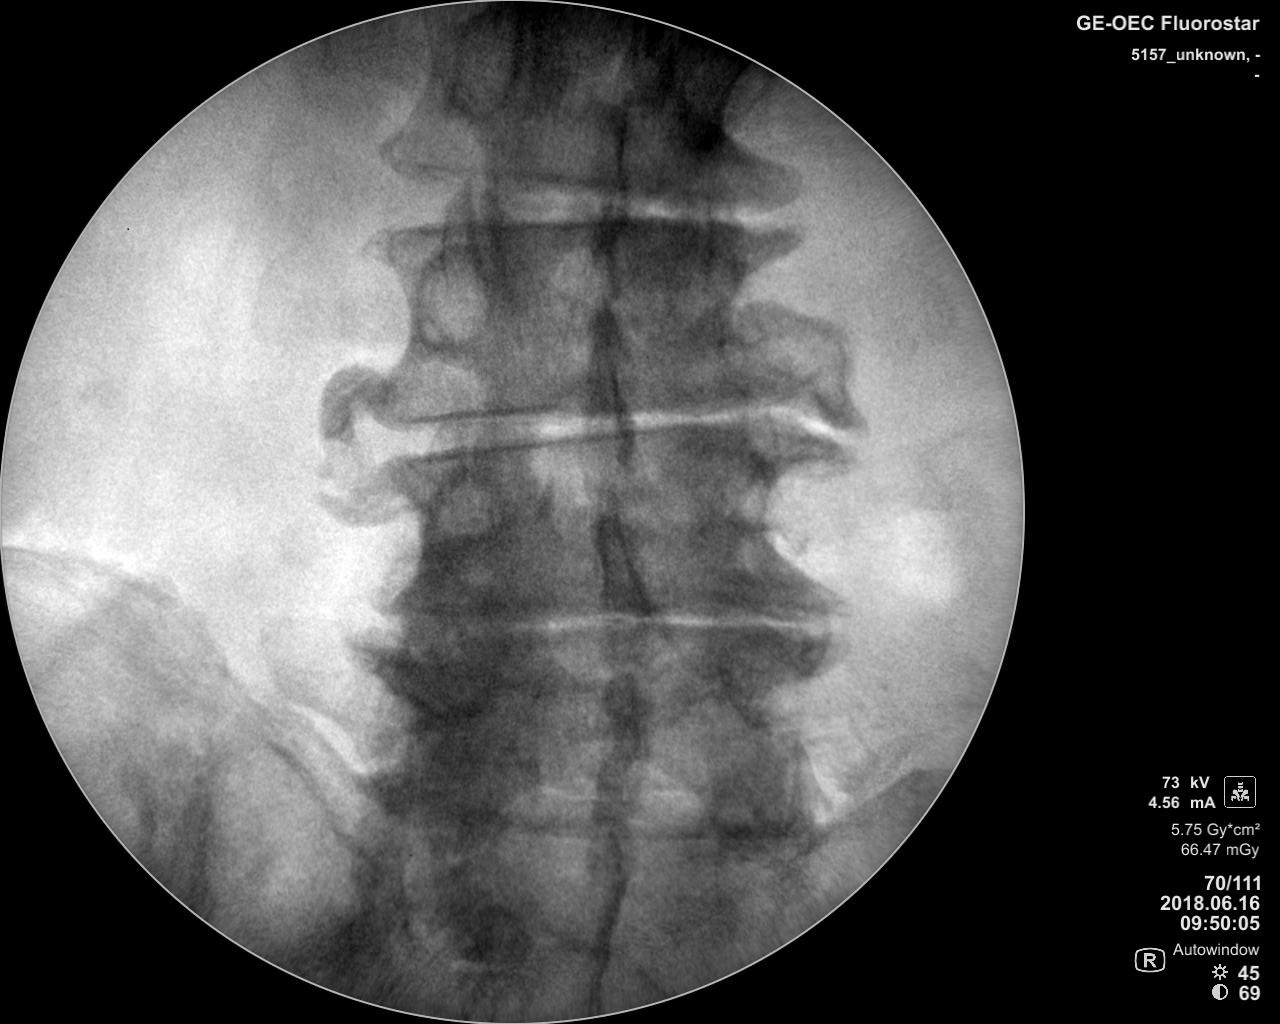eyes: (443, 10, 529, 125), (709, 624, 798, 734), (398, 629, 491, 728), (409, 245, 489, 351), (700, 441, 779, 540), (421, 469, 510, 557), (659, 245, 732, 329)
line: (367, 141, 791, 210), (369, 596, 837, 654), (362, 792, 817, 852), (385, 412, 824, 470), (360, 385, 821, 430), (363, 211, 802, 259)
nose: (581, 485, 662, 644), (576, 313, 639, 470), (587, 662, 648, 817), (585, 104, 641, 243)
